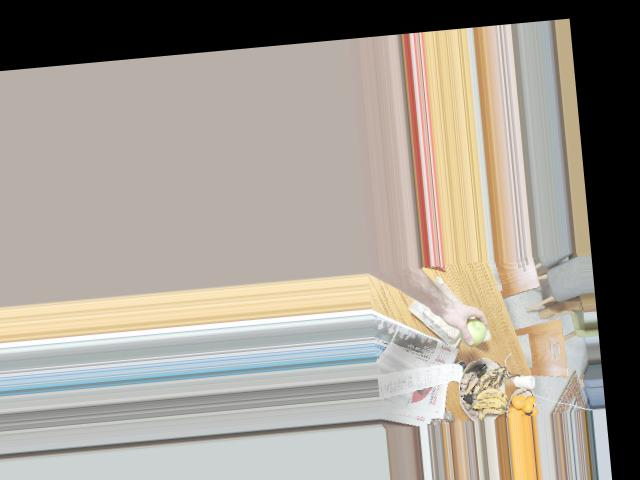apple: (447, 312, 488, 347)
